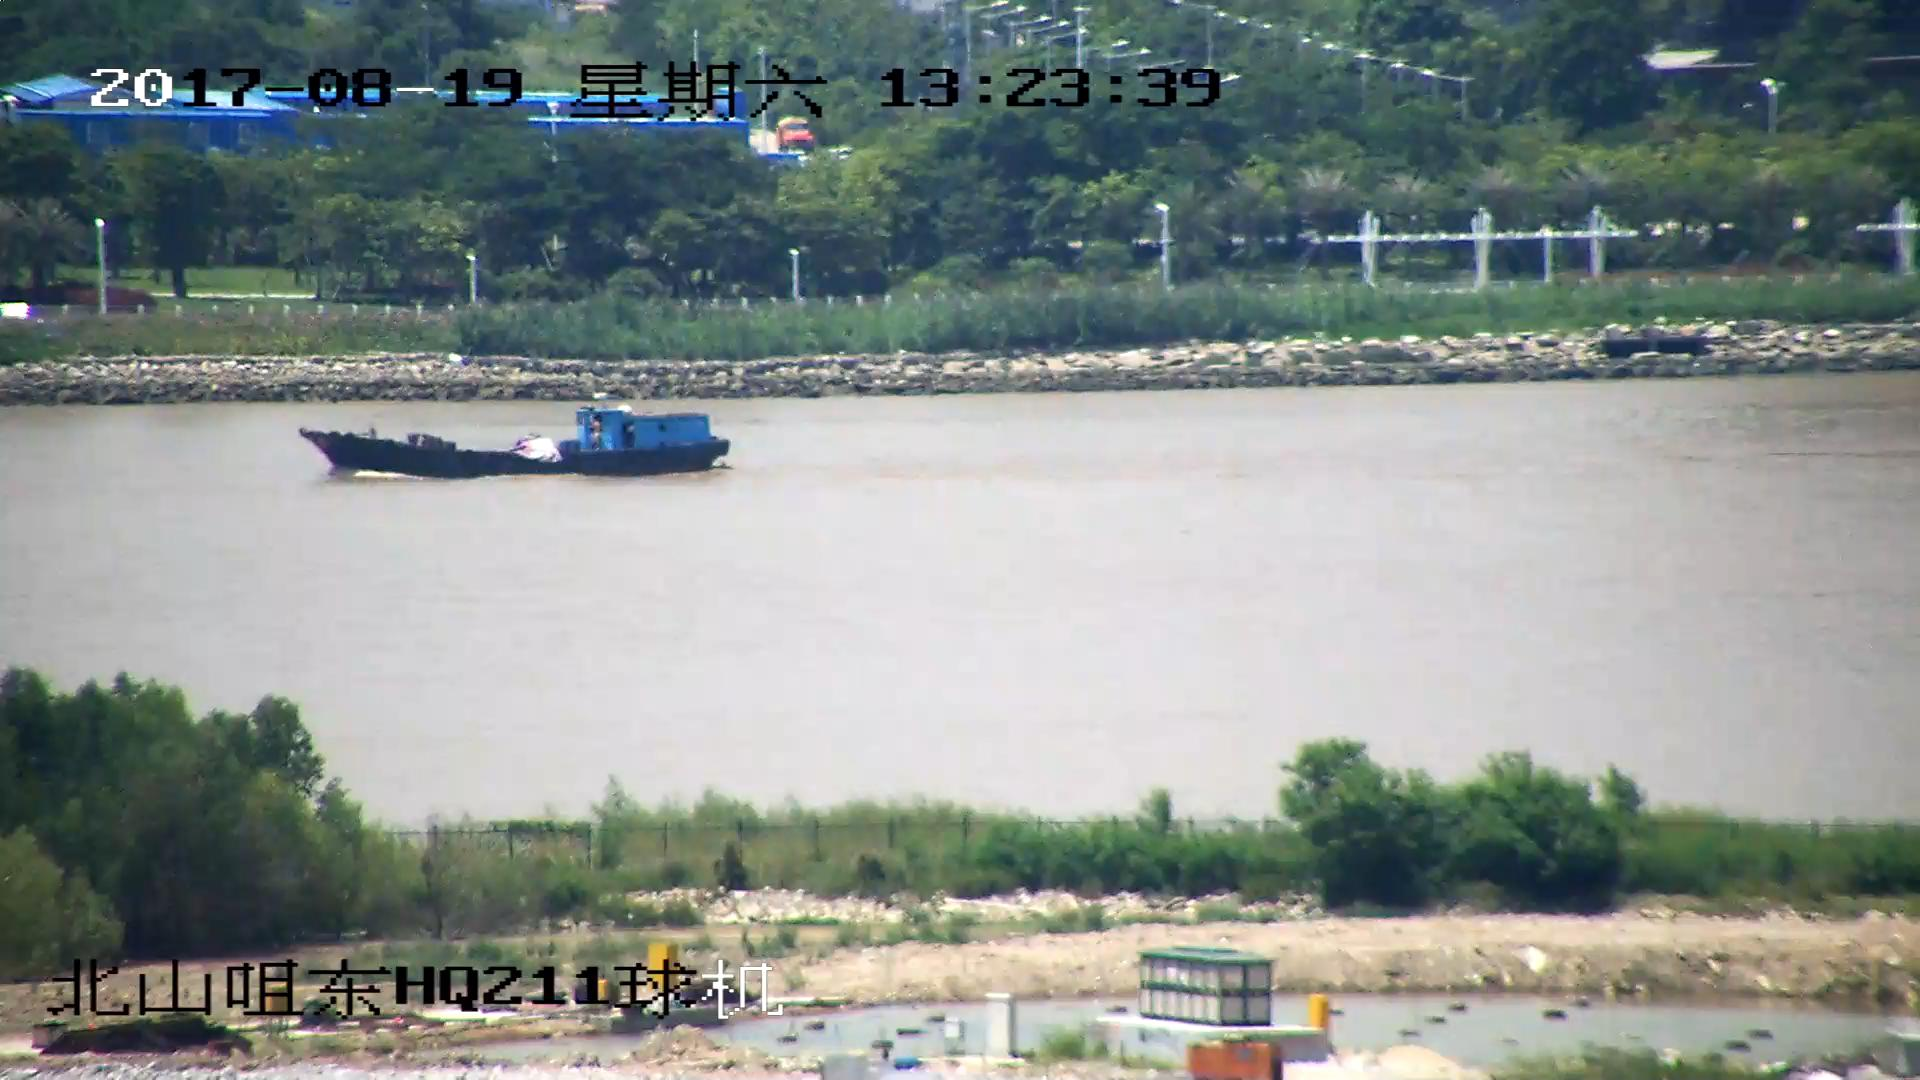fishing boat: (305, 409, 731, 479)
